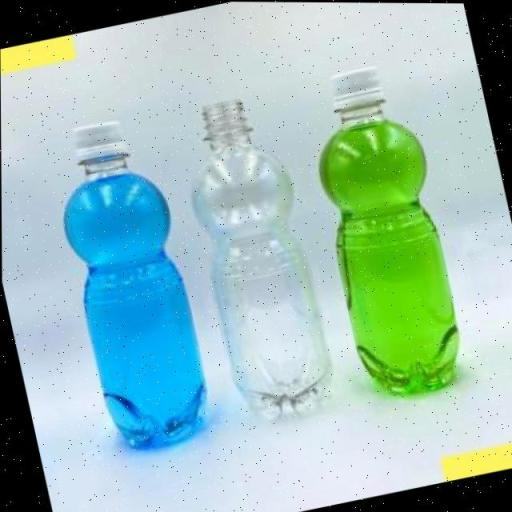plastic: (154, 70, 362, 460)
